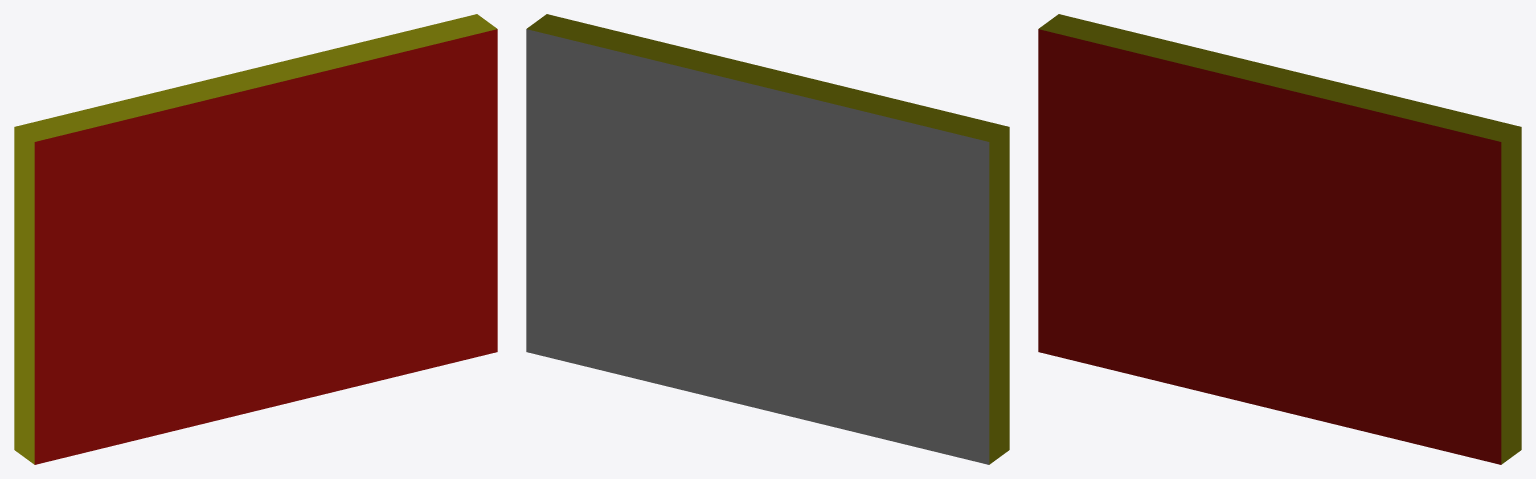
Rendered from idf.obj.
3 renders of one model, left to right at view 1: azimuth 30°, elevation 25°; view 2: azimuth 150°, elevation 25°; view 3: azimuth 330°, elevation 25°, orthographic.
Bounding box in the file's own units: 79.19 × 52.79 × 6.1.
